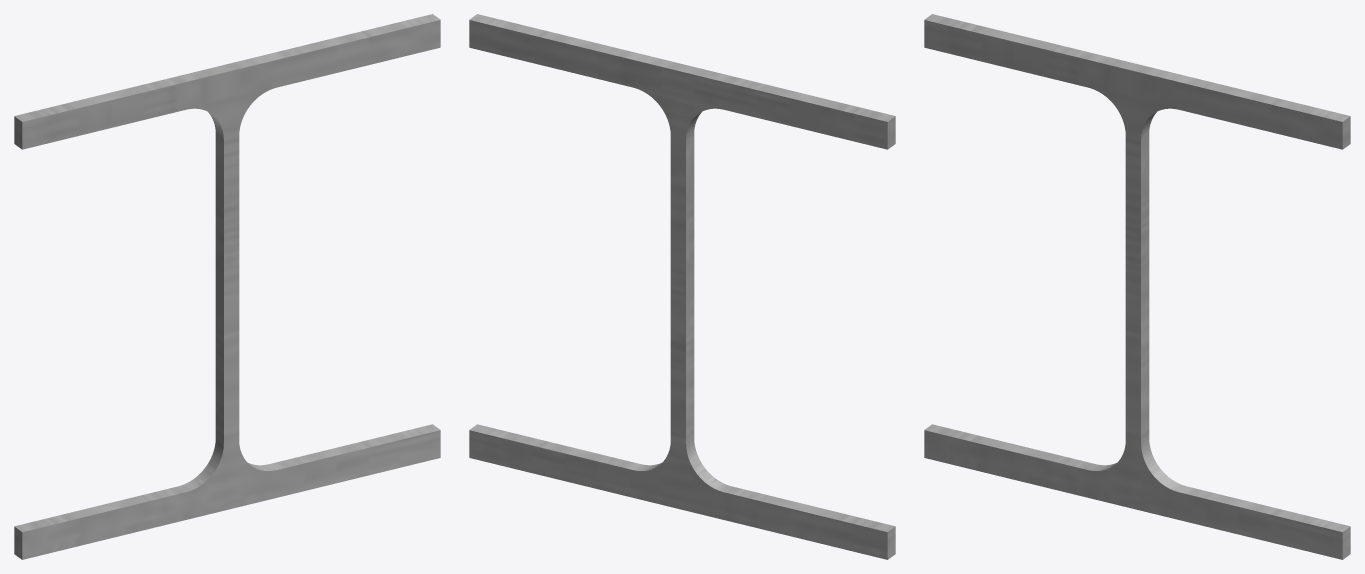
The model's file is HEB300.glb.
3 renders of one model, left to right at view 1: azimuth 30°, elevation 25°; view 2: azimuth 150°, elevation 25°; view 3: azimuth 330°, elevation 25°, orthographic.
Bounding box in the file's own units: 30 × 30 × 1.
Materials: 1 (1 with a texture image).
